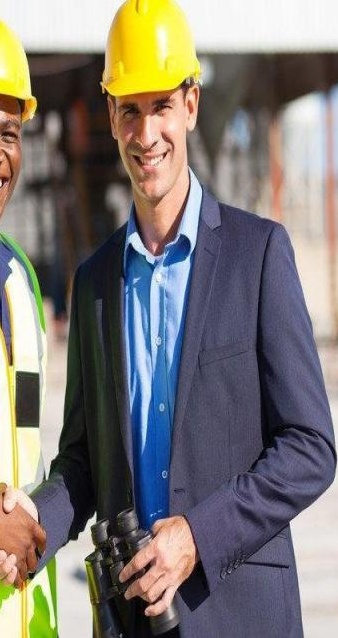hard-hat: (99, 0, 200, 98)
vest: (0, 200, 109, 638)
